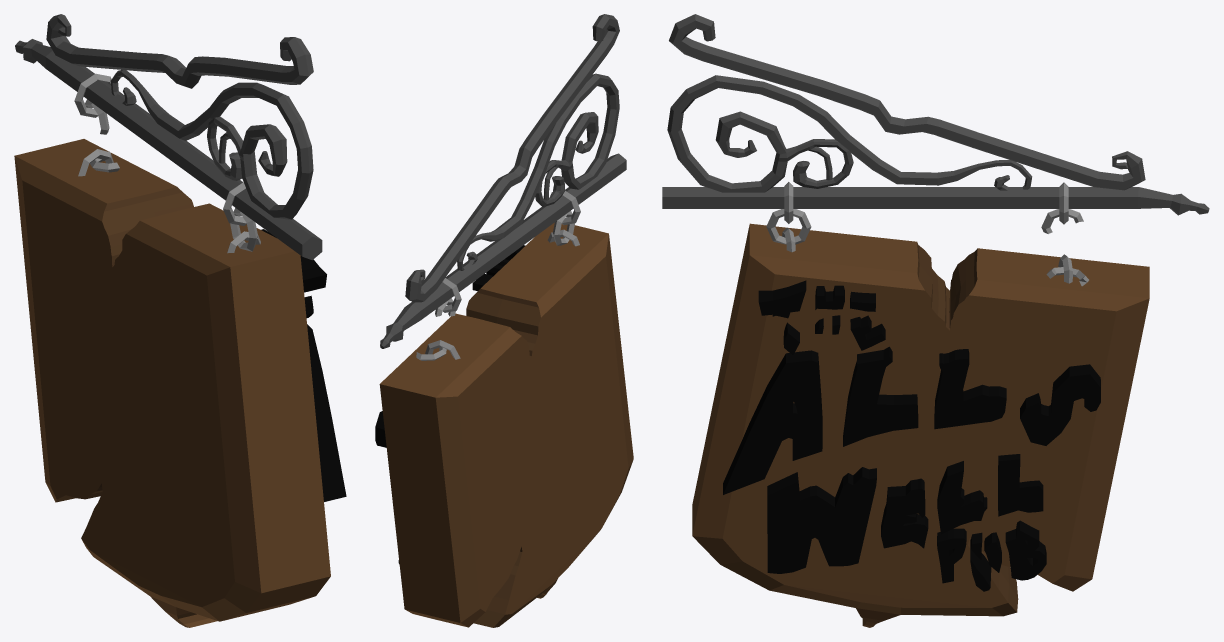
The model's file is Sign7.fbx.
3 views of the same model, side by side, from view 1: azimuth 30°, elevation 25°; view 2: azimuth 150°, elevation 25°; view 3: azimuth 270°, elevation 25° (orthographic). The views are drawn at different scales.
Parts seen in each view (by area): view 1: Sign7; view 2: Sign7; view 3: Sign7.
Boxes of the visible parts, x1,y1,x2,y2 form: Sign7: [14, 14, 346, 627]; Sign7: [375, 14, 633, 627]; Sign7: [662, 14, 1209, 627].
Bounding box in the file's own units: 16.08 × 90.27 × 73.69.
